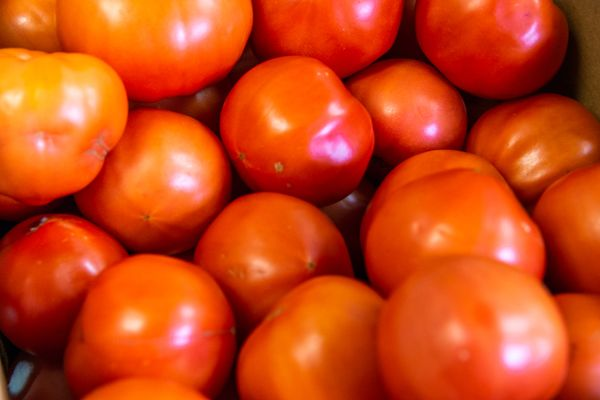steak: (0, 213, 127, 359), (347, 57, 468, 166)
taco: (374, 256, 571, 397), (359, 151, 546, 293), (63, 251, 237, 396), (72, 108, 233, 256), (219, 54, 375, 204), (0, 47, 129, 220), (196, 191, 355, 326), (58, 0, 254, 103), (235, 272, 385, 397), (414, 0, 569, 100), (466, 92, 600, 205), (251, 0, 404, 78), (532, 161, 600, 299), (554, 292, 600, 396)
